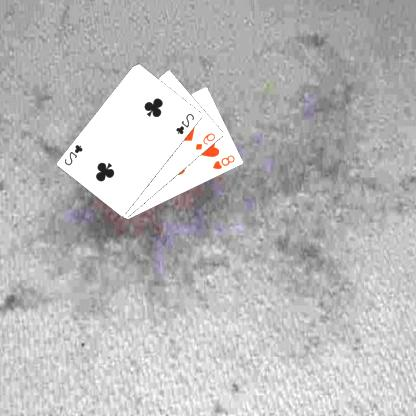2C: (175, 110, 198, 136), (64, 142, 86, 167)
8H: (212, 152, 238, 170)
9D: (195, 130, 218, 151)
